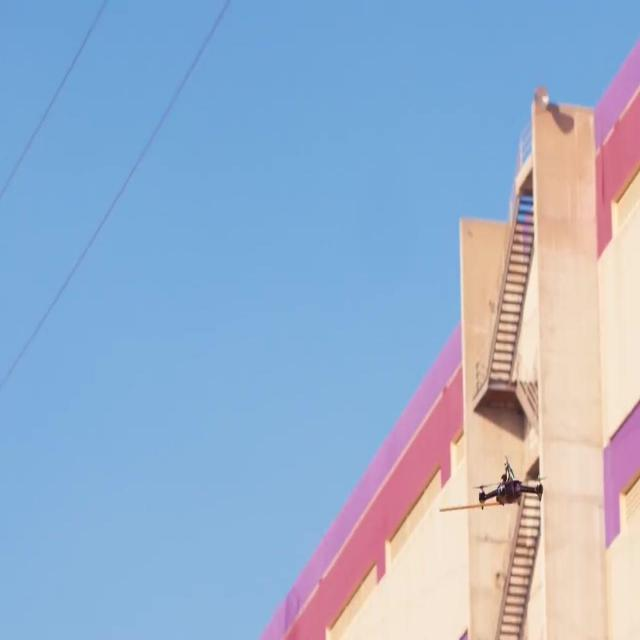UAV: (476, 459, 544, 513)
